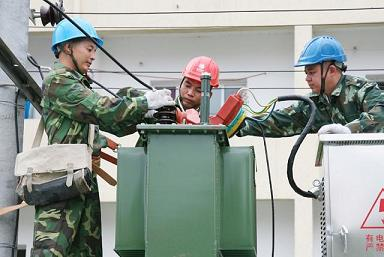gloves: (144, 88, 176, 109), (317, 123, 351, 135)
hard-hat: (51, 17, 104, 51), (293, 35, 346, 67)
person: (30, 17, 174, 257), (234, 35, 384, 138)
ppe-suit: (30, 61, 150, 256), (236, 73, 383, 137)
